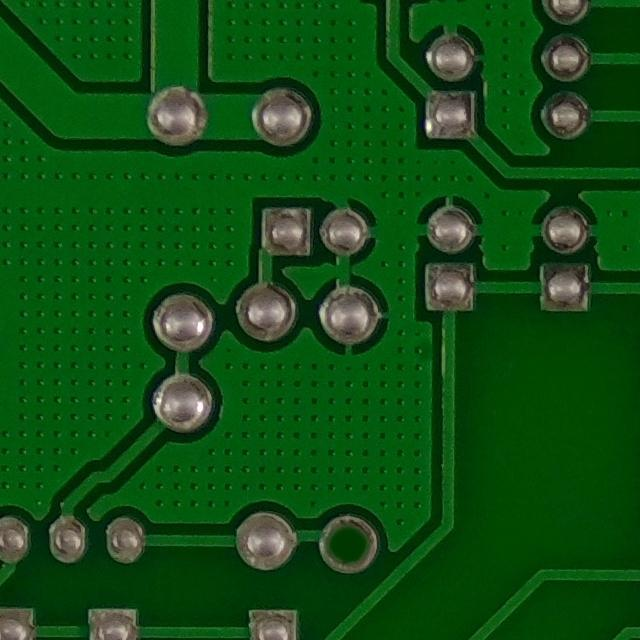missing_hole: (310, 502, 390, 582)
